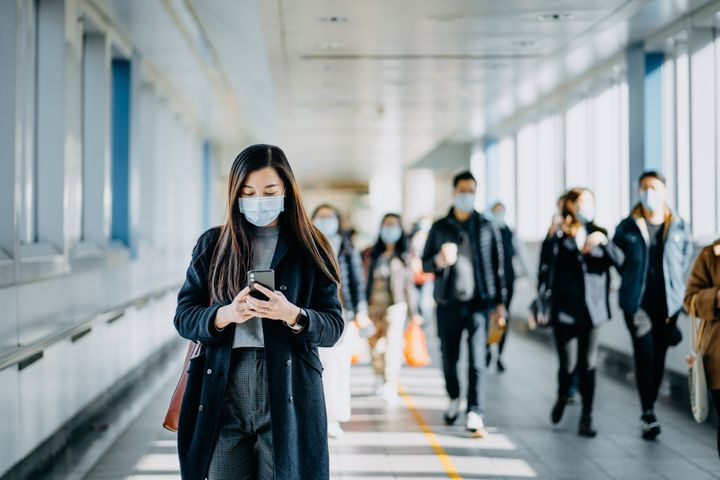surgical: (233, 196, 293, 227)
